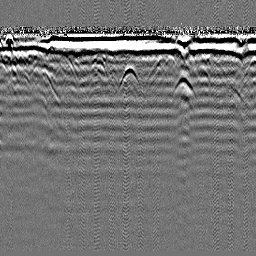cavity: (117, 63, 141, 88)
